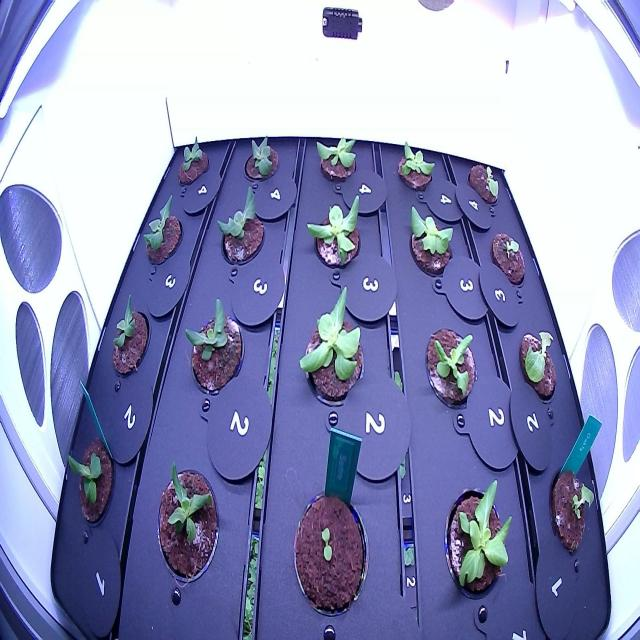germination: (284, 480, 374, 626), (545, 459, 599, 557), (488, 225, 529, 292), (464, 158, 504, 210)
young: (436, 467, 520, 615), (147, 454, 226, 594), (291, 278, 369, 411), (178, 289, 248, 401), (54, 426, 121, 536), (418, 317, 481, 418), (209, 174, 269, 278), (302, 190, 366, 280), (399, 201, 459, 287), (104, 287, 156, 384), (134, 188, 188, 278), (389, 132, 438, 203), (310, 129, 364, 190), (238, 129, 283, 190), (172, 130, 213, 194)
